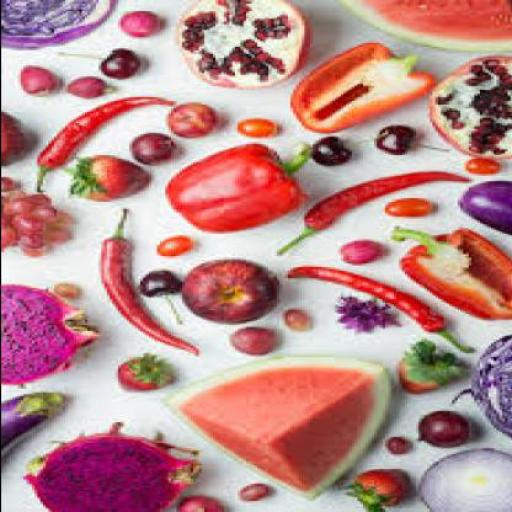biodegradable: (159, 354, 395, 498), (278, 264, 473, 354), (20, 418, 194, 511), (273, 168, 467, 250), (286, 39, 432, 135), (97, 206, 192, 353), (31, 94, 167, 194), (386, 224, 510, 318), (173, 0, 306, 86), (1, 282, 95, 388), (423, 54, 509, 159), (334, 0, 510, 49), (174, 258, 276, 322), (412, 446, 509, 510), (1, 175, 73, 257), (1, 0, 114, 50), (1, 390, 59, 475), (465, 328, 509, 436), (390, 336, 462, 390), (66, 153, 148, 198), (456, 179, 510, 236), (342, 469, 415, 511), (328, 293, 401, 335), (111, 353, 170, 390), (412, 409, 467, 446), (161, 101, 214, 138), (0, 110, 28, 168), (134, 269, 176, 305), (92, 47, 139, 79), (223, 326, 272, 355), (128, 133, 172, 162), (337, 237, 384, 264), (306, 135, 348, 164), (114, 7, 156, 36), (370, 125, 415, 152), (17, 64, 56, 94), (58, 77, 112, 97), (384, 196, 431, 215), (176, 493, 222, 510), (152, 234, 190, 253), (231, 118, 275, 134), (461, 157, 501, 172), (282, 308, 308, 330), (237, 481, 264, 500), (8, 213, 36, 230), (50, 282, 78, 298), (6, 198, 30, 216), (39, 226, 64, 242), (384, 437, 404, 454), (1, 227, 15, 251), (25, 206, 56, 216), (20, 193, 44, 205), (16, 234, 38, 245), (17, 244, 41, 254), (1, 188, 22, 198), (1, 198, 9, 216), (1, 177, 11, 187), (0, 216, 6, 226)
